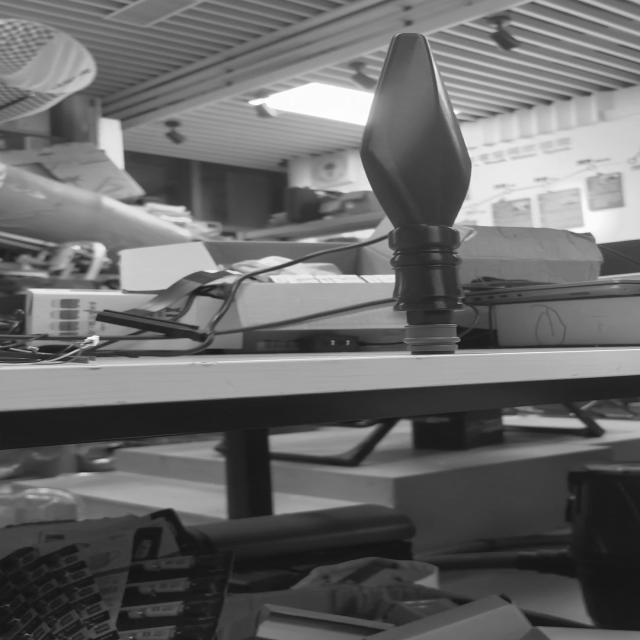base: (407, 321, 461, 353)
